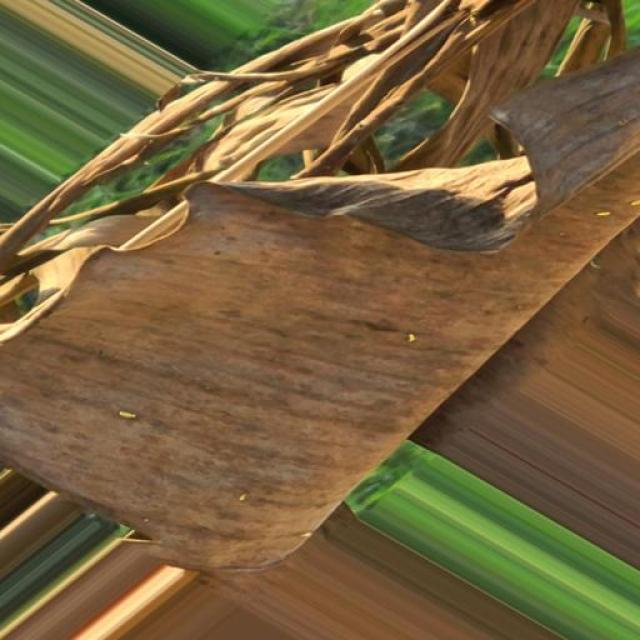Bract_mosaic_virus: (0, 168, 640, 590), (54, 0, 640, 214)
